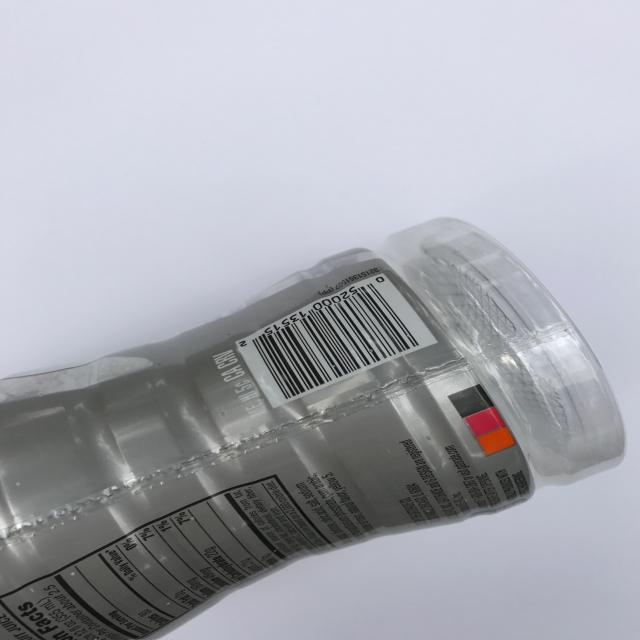plastic: (0, 215, 627, 640)
